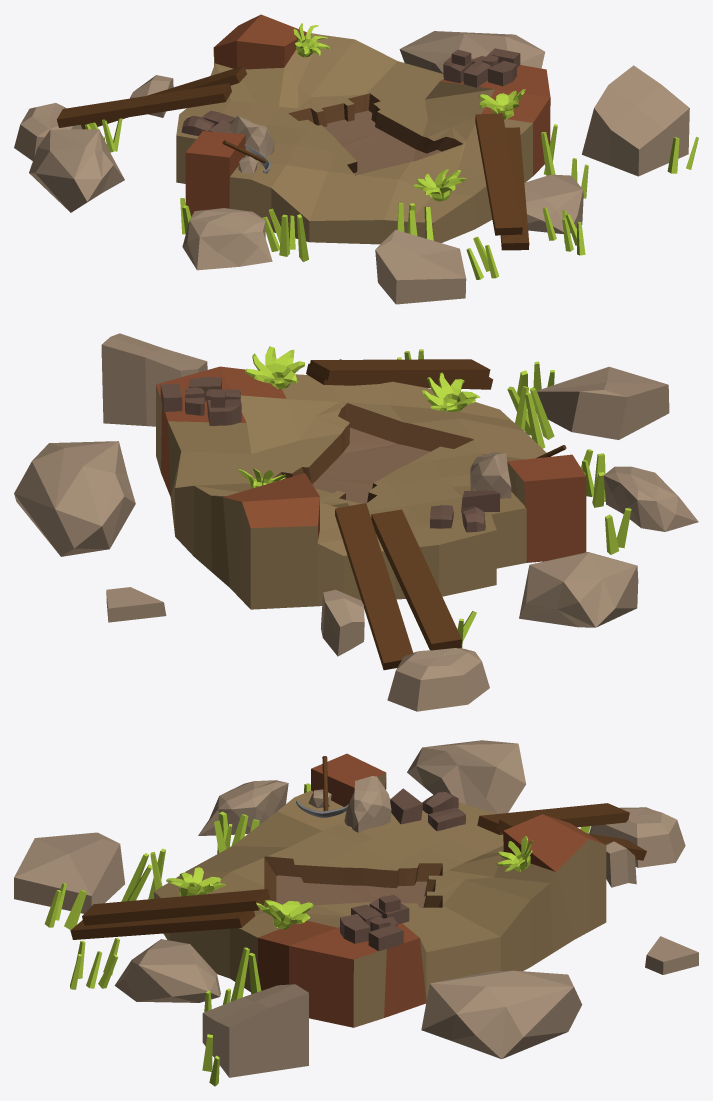
The model's file is SOCKET_Neutral.fbx.
3 renders of one model, top to bottom at view 1: azimuth 30°, elevation 25°; view 2: azimuth 150°, elevation 25°; view 3: azimuth 270°, elevation 25°, orthographic. The views are drawn at different scales.
Visible parts, largest first — view 1: Cube, Cube.010, Cube.013, Cube.008, Cube.011, Cube.002, Cube.009, Cube.004, Cube.007, Cube.006, Cube.001, Cube.003 (+9 smaller); view 2: Cube, Cube.009, Cube.008, Cube.013, Cube.010, Cube.005, Cube.004, Cube.006, Cube.011, Cube.002, Cube.014, Cube.012 (+7 smaller); view 3: Cube, Cube.009, Cube.010, Cube.013, Cube.008, Cube.007, Cube.002, Cube.006, Cube.001, Cube.011, Cube.004, Cube.003 (+12 smaller).
Boxes of the visible parts, <box> form: Cube: <box>176,14,550,244</box>; Cube.010: <box>582,65,689,176</box>; Cube.013: <box>375,229,466,304</box>; Cube.008: <box>29,129,124,212</box>; Cube.011: <box>182,208,272,270</box>; Cube.002: <box>475,113,522,235</box>; Cube.009: <box>399,31,544,73</box>; Cube.004: <box>56,83,231,127</box>; Cube.007: <box>524,174,583,234</box>; Cube.006: <box>14,103,82,160</box>; Cube.001: <box>500,127,529,250</box>; Cube.003: <box>228,115,274,157</box>; Cube: <box>156,366,586,609</box>; Cube.009: <box>14,441,135,556</box>; Cube.008: <box>519,552,638,627</box>; Cube.013: <box>535,366,669,439</box>; Cube.010: <box>101,333,207,426</box>; Cube.005: <box>335,503,413,670</box>; Cube.004: <box>371,509,461,650</box>; Cube.006: <box>387,648,489,711</box>; Cube.011: <box>603,466,698,531</box>; Cube.002: <box>308,359,490,380</box>; Cube.014: <box>321,589,364,656</box>; Cube.012: <box>106,587,166,622</box>; Cube: <box>154,753,606,1027</box>; Cube.009: <box>421,970,582,1059</box>; Cube.010: <box>202,984,308,1077</box>; Cube.013: <box>14,832,124,913</box>; Cube.008: <box>407,740,525,814</box>; Cube.007: <box>114,939,220,1002</box>; Cube.002: <box>82,889,270,925</box>; Cube.006: <box>589,807,685,867</box>; Cube.001: <box>70,911,255,939</box>; Cube.011: <box>198,780,288,835</box>; Cube.004: <box>477,803,629,834</box>; Cube.003: <box>344,776,391,832</box>.
Bounding box in the file's own units: 444 × 83.91 × 437.
